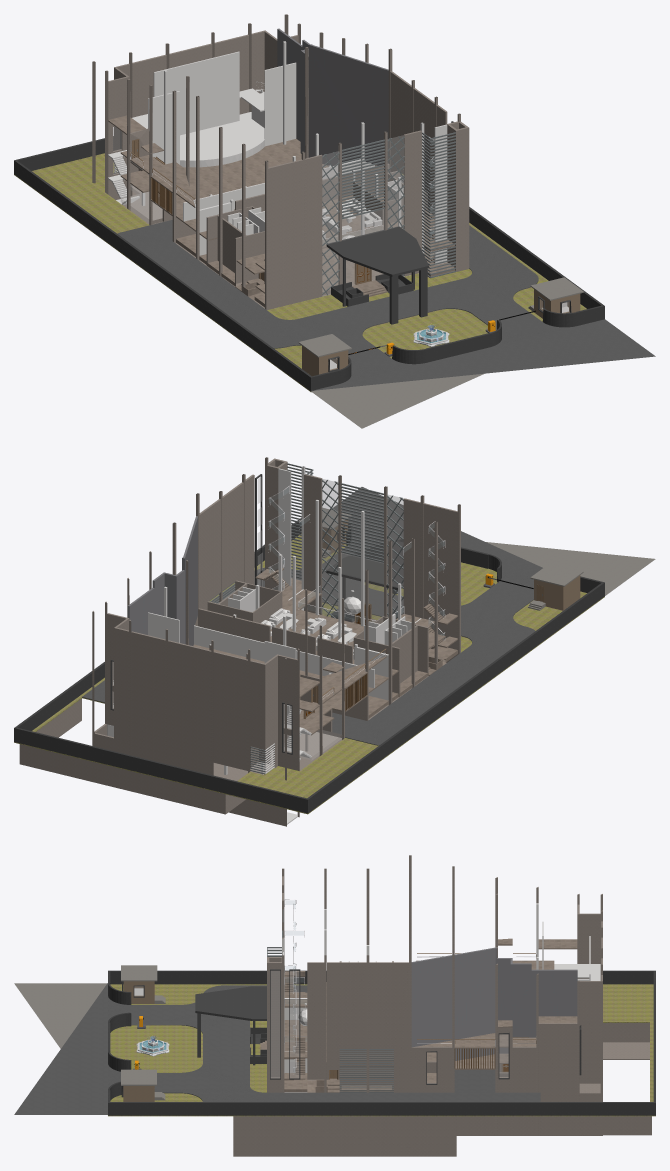
The model's file is audi.glb.
The picture shows the model from 3 angles, top to bottom: view 1: azimuth 30°, elevation 25°; view 2: azimuth 150°, elevation 25°; view 3: azimuth 270°, elevation 25°; orthographic projection. The views are drawn at different scales.
Parts seen in each view (by area): view 1: K08_Violet_Crush, Concrete_06_1K, default, L05_Cherry_Flame1, Soil_04_1K, L07_Raspberry_Rush, L06_Crimson_Glow, Metal_06_1K, L06_Crimson_Glow2, Glass_Basic_01, M05_Graphite_Haze, Metal_32_1K (+3 smaller); view 2: K08_Violet_Crush, Concrete_06_1K, L05_Cherry_Flame1, default, Soil_04_1K, L06_Crimson_Glow, Glass_Basic_01, L06_Crimson_Glow2, L07_Raspberry_Rush, Metal_06_1K, M05_Graphite_Haze, Metal_32_1K (+4 smaller); view 3: K08_Violet_Crush, Concrete_06_1K, L07_Raspberry_Rush, L05_Cherry_Flame1, Soil_04_1K, L06_Crimson_Glow, L06_Crimson_Glow2, M05_Graphite_Haze, Glass_Basic_01, Metal_06_1K, default, M09_Shadow_Night (+2 smaller).
Boxes of the visible parts, x1,y1,x2,y2 form: K08_Violet_Crush: (92,14,469,309); Concrete_06_1K: (117,175,655,390); default: (108,41,568,369); L05_Cherry_Flame1: (14,136,604,391); Soil_04_1K: (14,153,586,392); L07_Raspberry_Rush: (130,28,434,282); L06_Crimson_Glow: (108,115,454,307); Metal_06_1K: (114,132,455,278); L06_Crimson_Glow2: (298,277,583,428); Glass_Basic_01: (113,127,569,369); M05_Graphite_Haze: (326,226,428,324); Metal_32_1K: (322,136,404,295); K08_Violet_Crush: (19,457,460,826); Concrete_06_1K: (82,487,542,745); L05_Cherry_Flame1: (14,518,604,813); default: (107,466,542,824); Soil_04_1K: (14,534,604,814); L06_Crimson_Glow: (193,568,457,735); Glass_Basic_01: (113,476,444,772); L06_Crimson_Glow2: (299,508,655,610); L07_Raspberry_Rush: (127,486,445,715); Metal_06_1K: (209,463,542,774); M05_Graphite_Haze: (326,540,403,599); Metal_32_1K: (322,479,403,618); K08_Violet_Crush: (233,855,651,1156); Concrete_06_1K: (14,983,540,1114); L07_Raspberry_Rush: (284,899,577,1071); L05_Cherry_Flame1: (108,970,655,1115); Soil_04_1K: (108,984,655,1116); L06_Crimson_Glow: (260,938,577,1092); L06_Crimson_Glow2: (14,965,165,1100); M05_Graphite_Haze: (195,986,266,1065); Glass_Basic_01: (134,971,508,1080); Metal_06_1K: (267,909,536,1092); default: (134,900,600,1092); M09_Shadow_Night: (121,969,581,1097).
Bounding box in the file's own units: 40 × 27.18 × 82.
Materials: 32 (31 with a texture image).
